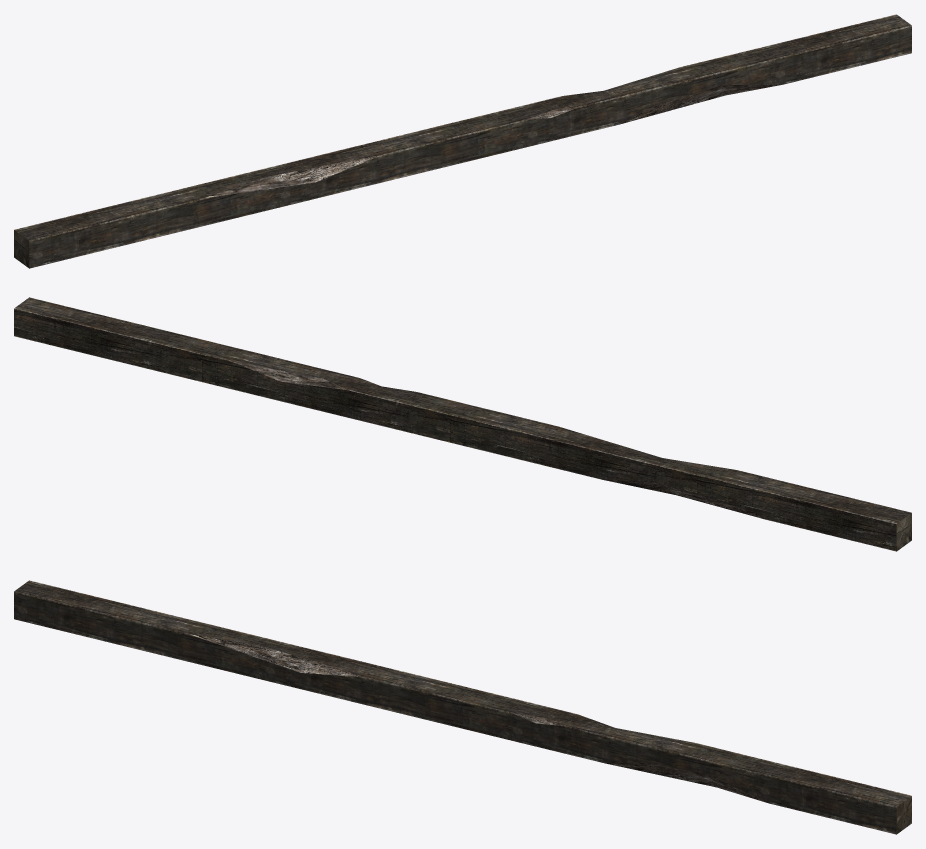
File: Wood_el10B.fbx
The picture shows the model from 3 angles, top to bottom: view 1: azimuth 30°, elevation 25°; view 2: azimuth 150°, elevation 25°; view 3: azimuth 330°, elevation 25°; orthographic projection.
Parts seen in each view (by area): view 1: pCube4; view 2: pCube4; view 3: pCube4.
Boxes of the visible parts, <box> form: pCube4: <box>14,14,911,268</box>; pCube4: <box>14,297,911,551</box>; pCube4: <box>14,580,911,834</box>.
Size of the model in its own units: 15 by 0.45 by 0.45.
